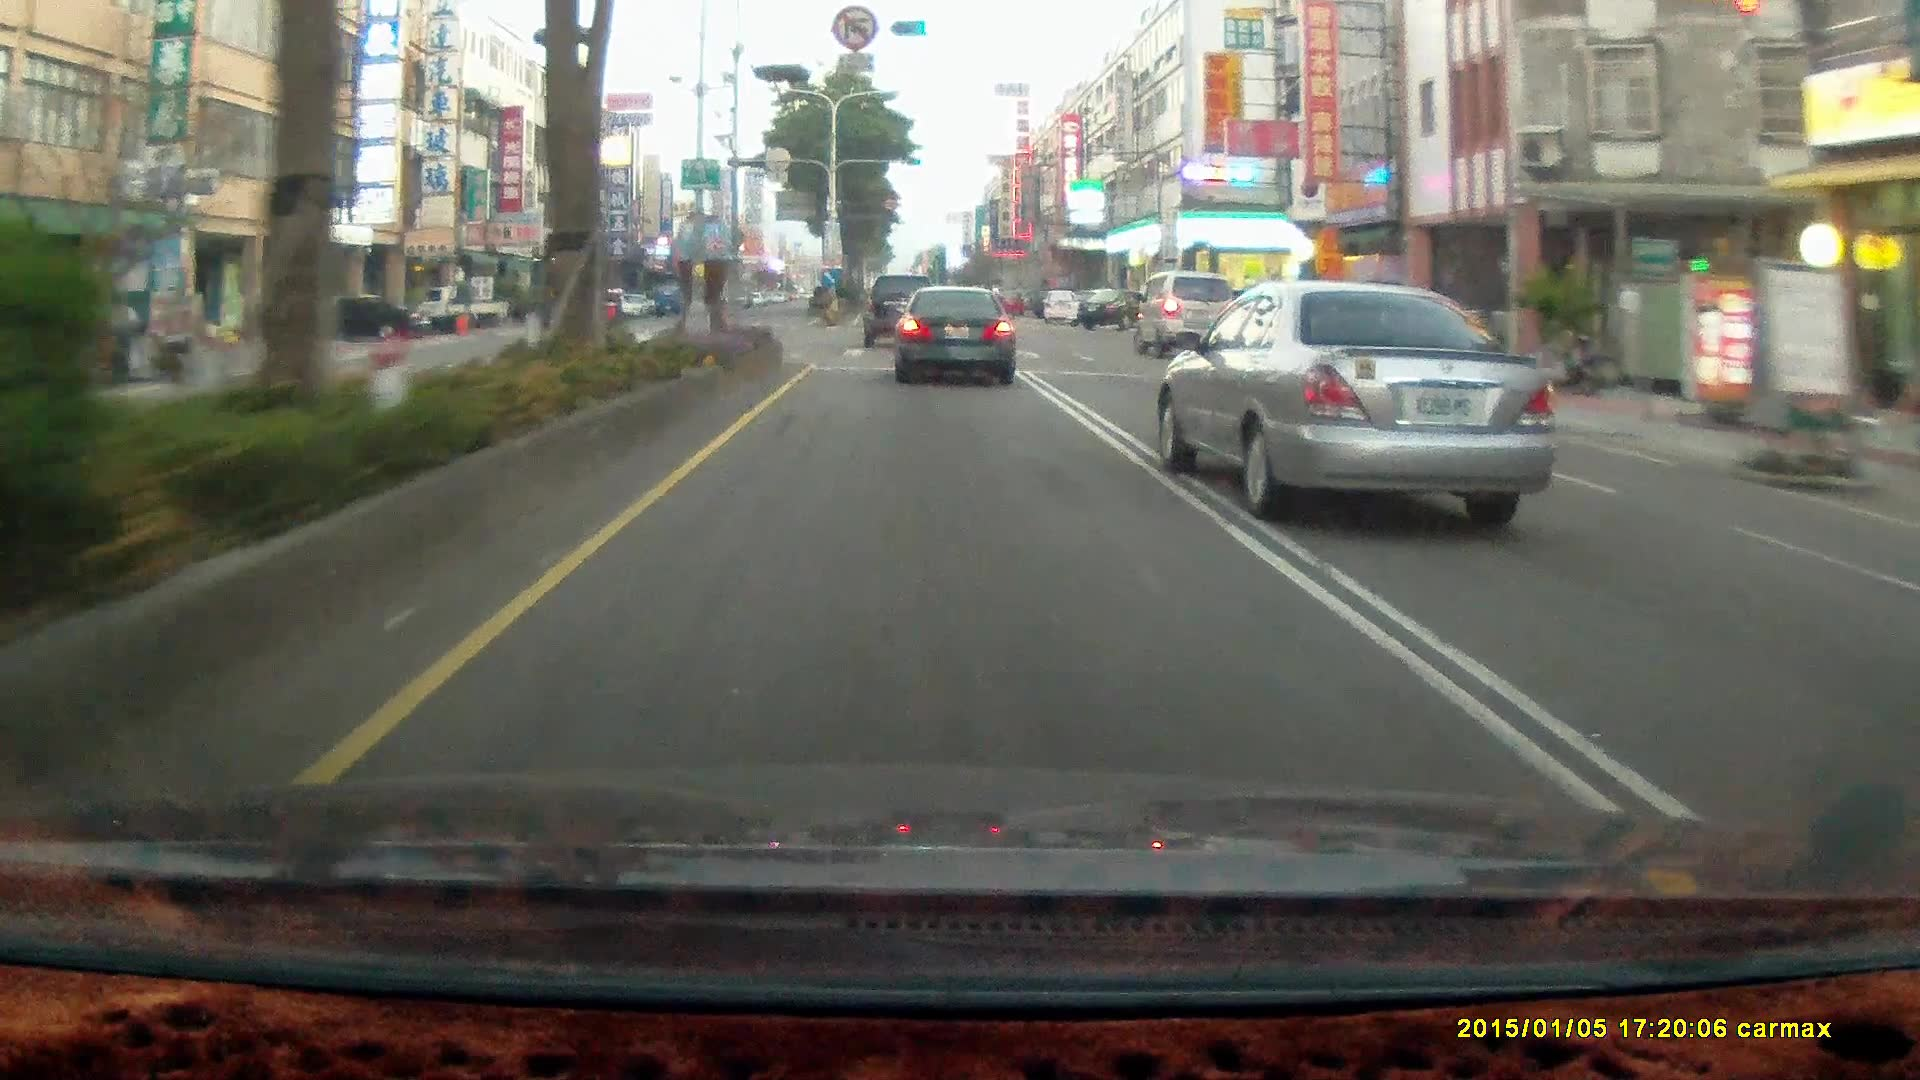vehicle: (1160, 280, 1572, 524), (891, 284, 1014, 386), (897, 284, 1019, 386), (1135, 270, 1238, 363), (1135, 268, 1237, 359), (297, 291, 433, 349), (297, 293, 426, 342), (862, 273, 942, 351), (862, 273, 939, 345), (415, 286, 512, 336), (411, 284, 506, 331), (1079, 286, 1154, 328), (1039, 286, 1081, 320)
